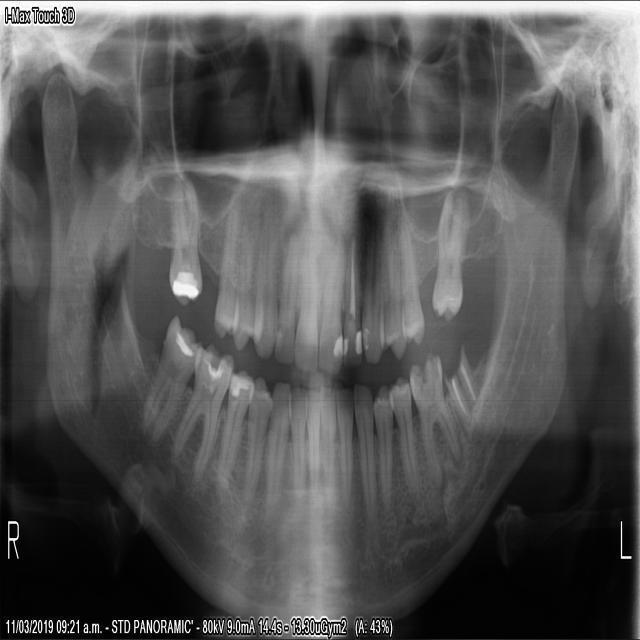LCD: (349, 373, 376, 526)
LCU: (357, 210, 384, 367)
LID: (330, 382, 354, 520), (316, 383, 337, 509)
LIU: (317, 225, 345, 377), (341, 224, 361, 372)
LMD: (404, 343, 465, 493), (439, 336, 481, 430)
LMU: (427, 181, 468, 327)
LPMD: (386, 369, 422, 510), (370, 378, 394, 513)
LPMU: (375, 189, 405, 365), (395, 196, 425, 349)
RCD: (261, 376, 292, 524)
RCU: (249, 198, 288, 362)
RID: (283, 379, 309, 507), (302, 376, 321, 501)
RIU: (291, 227, 319, 378), (272, 223, 300, 370)
RMD: (136, 306, 202, 451), (170, 334, 234, 478)
RMU: (167, 169, 203, 307)
RPMD: (235, 367, 274, 519), (212, 362, 254, 497)
RPMU: (228, 210, 265, 357), (210, 199, 239, 345)
